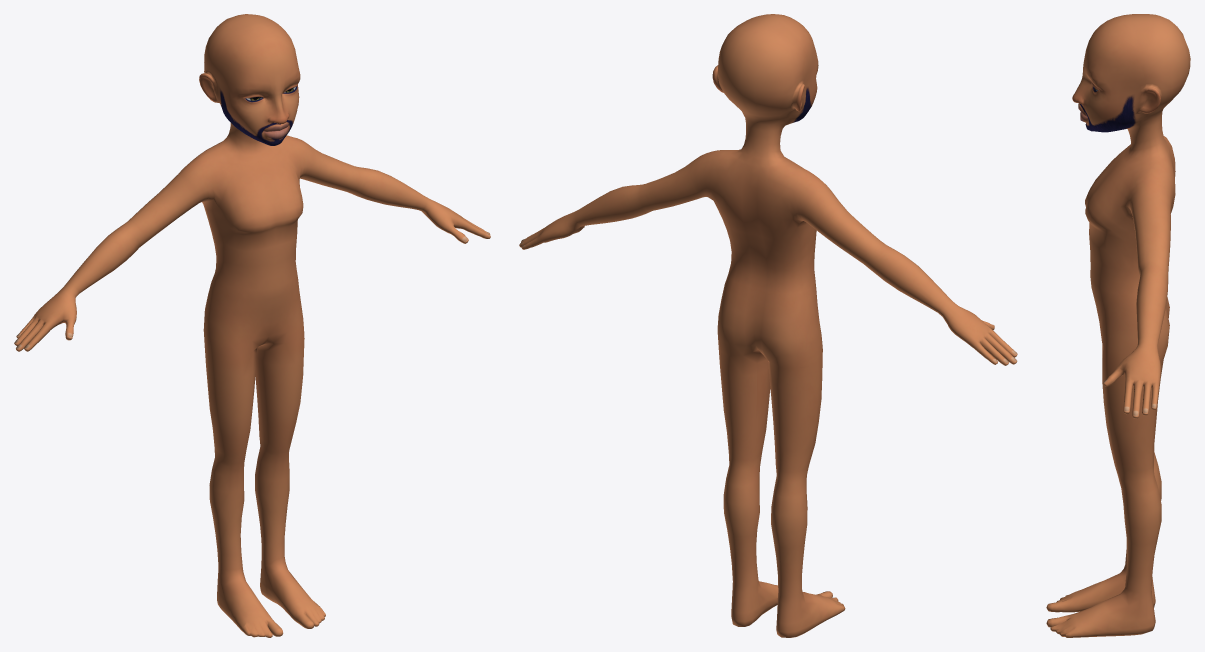
Rendered from frame_0045.glb.
3 views of the same model, side by side, from view 1: azimuth 30°, elevation 25°; view 2: azimuth 150°, elevation 25°; view 3: azimuth 270°, elevation 25° (orthographic). The views are drawn at different scales.
Parts seen in each view (by area): view 1: frame_0045_head_geo; view 2: frame_0045_head_geo; view 3: frame_0045_head_geo.
Boxes of the visible parts, bbox=[...] form: frame_0045_head_geo: bbox=[14, 14, 490, 637]; frame_0045_head_geo: bbox=[519, 14, 1017, 637]; frame_0045_head_geo: bbox=[1046, 14, 1190, 637].
Bounding box in the file's own units: 1.28 × 1.5 × 0.3253.
3 materials, 3 textured.
